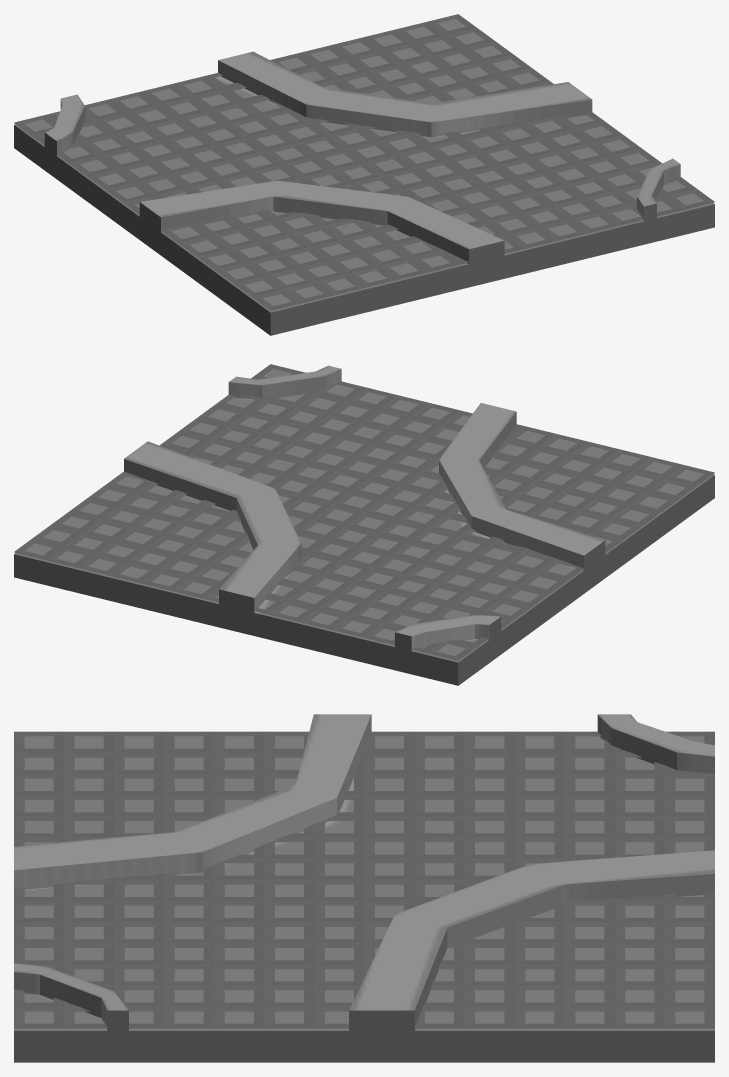
File: FloorBrick_04.fbx
3 renders of one model, top to bottom at view 1: azimuth 30°, elevation 25°; view 2: azimuth 150°, elevation 25°; view 3: azimuth 270°, elevation 25°, orthographic. The views are drawn at different scales.
Visible parts, largest first — view 1: Cube.001, Cube.007; view 2: Cube.001, Cube.007; view 3: Cube.001, Cube.007.
Boxes of the visible parts, left/top/right/bottom form: Cube.001: left=14, top=19, right=714, bottom=335; Cube.007: left=14, top=14, right=714, bottom=310; Cube.001: left=14, top=365, right=714, bottom=685; Cube.007: left=14, top=364, right=714, bottom=660; Cube.001: left=14, top=714, right=714, bottom=1062; Cube.007: left=14, top=731, right=714, bottom=1028.
Bounding box in the file's own units: 100 × 8.2 × 100.
Materials: 1 (1 with a texture image).
